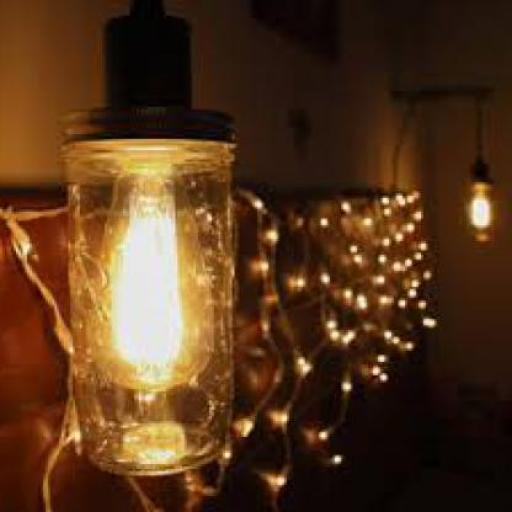glass: (59, 134, 239, 476), (89, 157, 214, 389), (469, 177, 496, 244), (474, 193, 493, 230)
